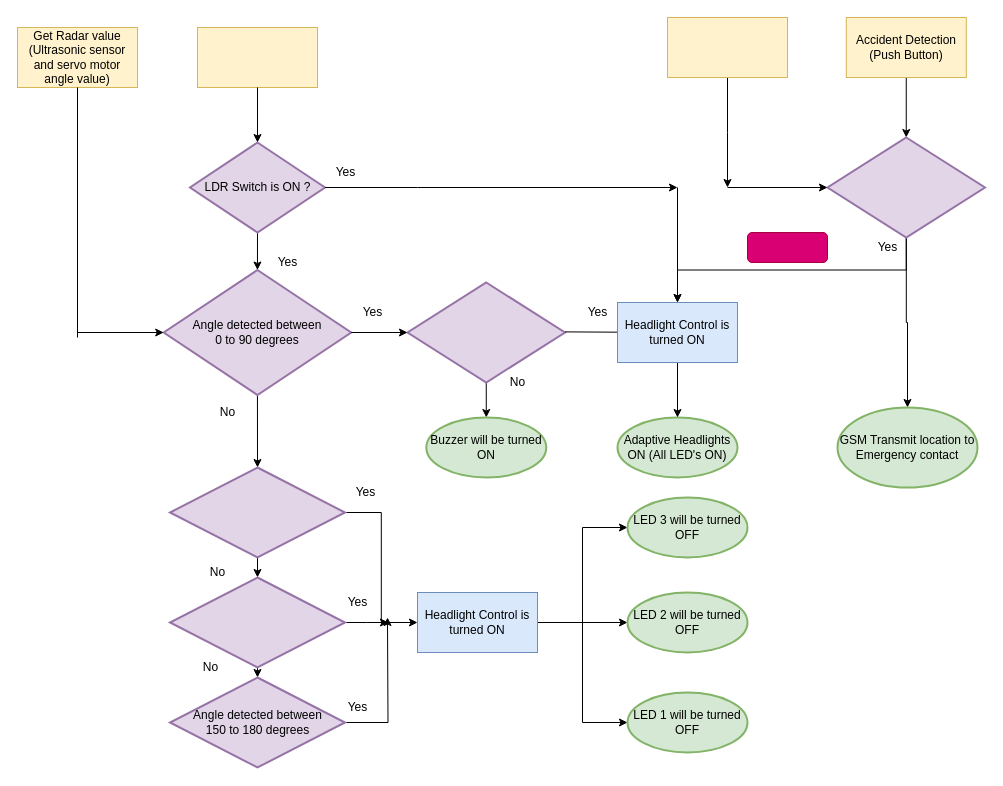
This 1003x786 diagram has some shape labels left out. Each missing label, with the box of its shape:
Angle detected between 120 to 150 degrees: (168, 576, 346, 668)
Angle detected between 90 to 120 degrees: (168, 466, 346, 558)
Get GPS Location value: (666, 16, 788, 78)
Get LDR Light Intensity value: (196, 26, 318, 88)
INTERRUPT: (746, 232, 828, 262)
Is Push button pressed?: (826, 136, 986, 238)
Safe distance detected?: (406, 281, 566, 383)
